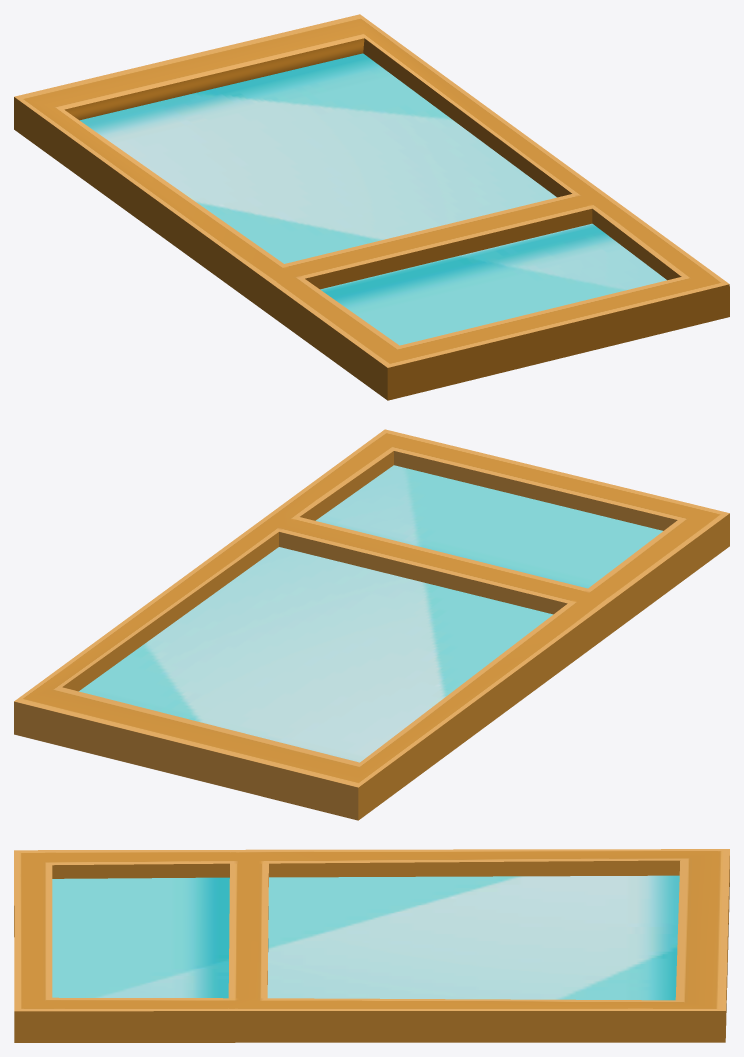
Rendered from HouseWindowSlim.fbx.
The picture shows the model from 3 angles, top to bottom: view 1: azimuth 30°, elevation 25°; view 2: azimuth 150°, elevation 25°; view 3: azimuth 270°, elevation 25°; orthographic projection. The views are drawn at different scales.
Visible parts, largest first — view 1: HouseWindowSlim; view 2: HouseWindowSlim; view 3: HouseWindowSlim.
Boxes of the visible parts, box(x1,y1,x2,y2) form: HouseWindowSlim: box(14, 14, 729, 400); HouseWindowSlim: box(14, 429, 729, 820); HouseWindowSlim: box(14, 849, 729, 1042).
Size of the model in its own units: 68.45 by 6.36 by 128.
